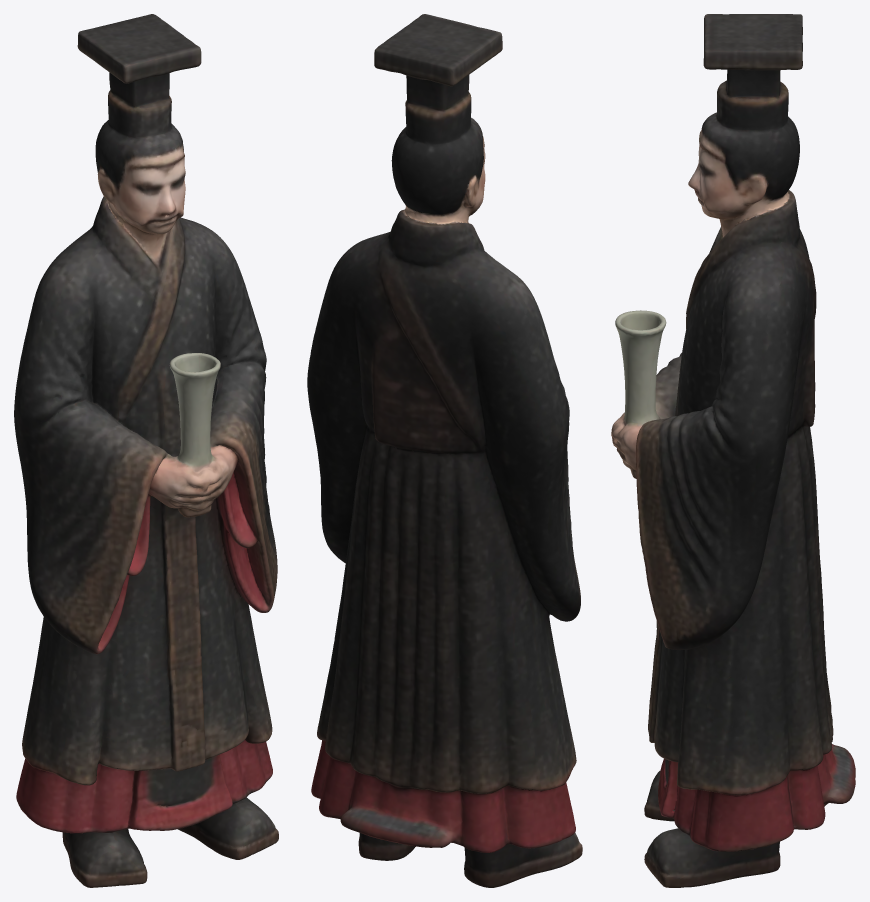
File: emperor-proto.glb
3 renders of one model, left to right at view 1: azimuth 30°, elevation 25°; view 2: azimuth 150°, elevation 25°; view 3: azimuth 270°, elevation 25°, orthographic. The views are drawn at different scales.
Size of the model in its own units: 0.319 by 1 by 0.2749.
1 material, 1 textured.
